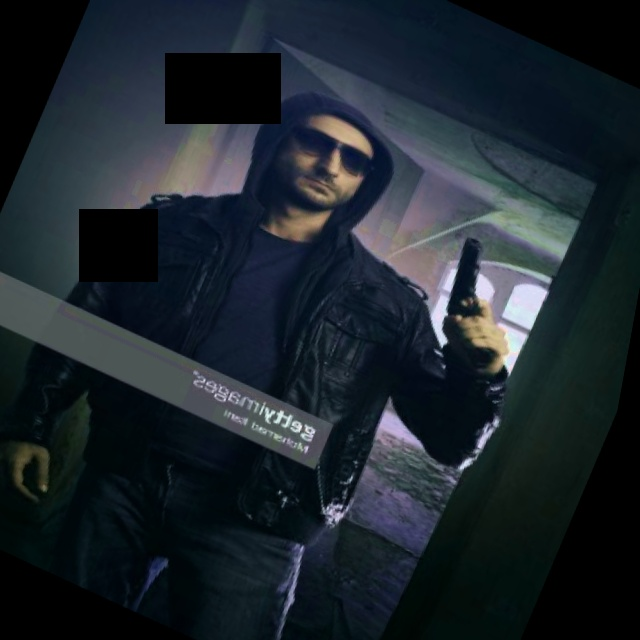gun: (430, 224, 513, 332)
